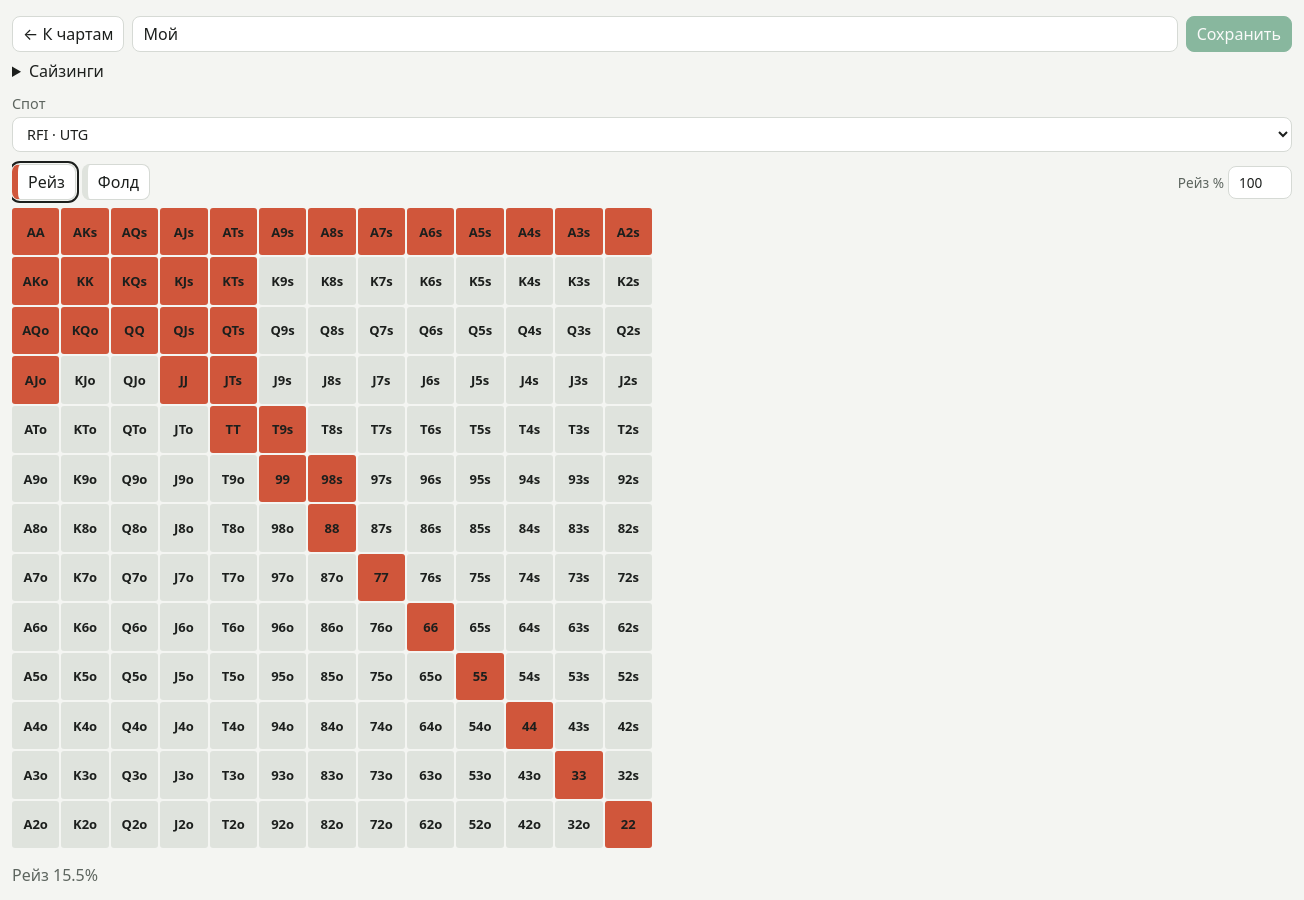
ChartEditor › renames the chart
Clear the field named "Название чарта" at point(655, 34), box [132,16,1178,52]
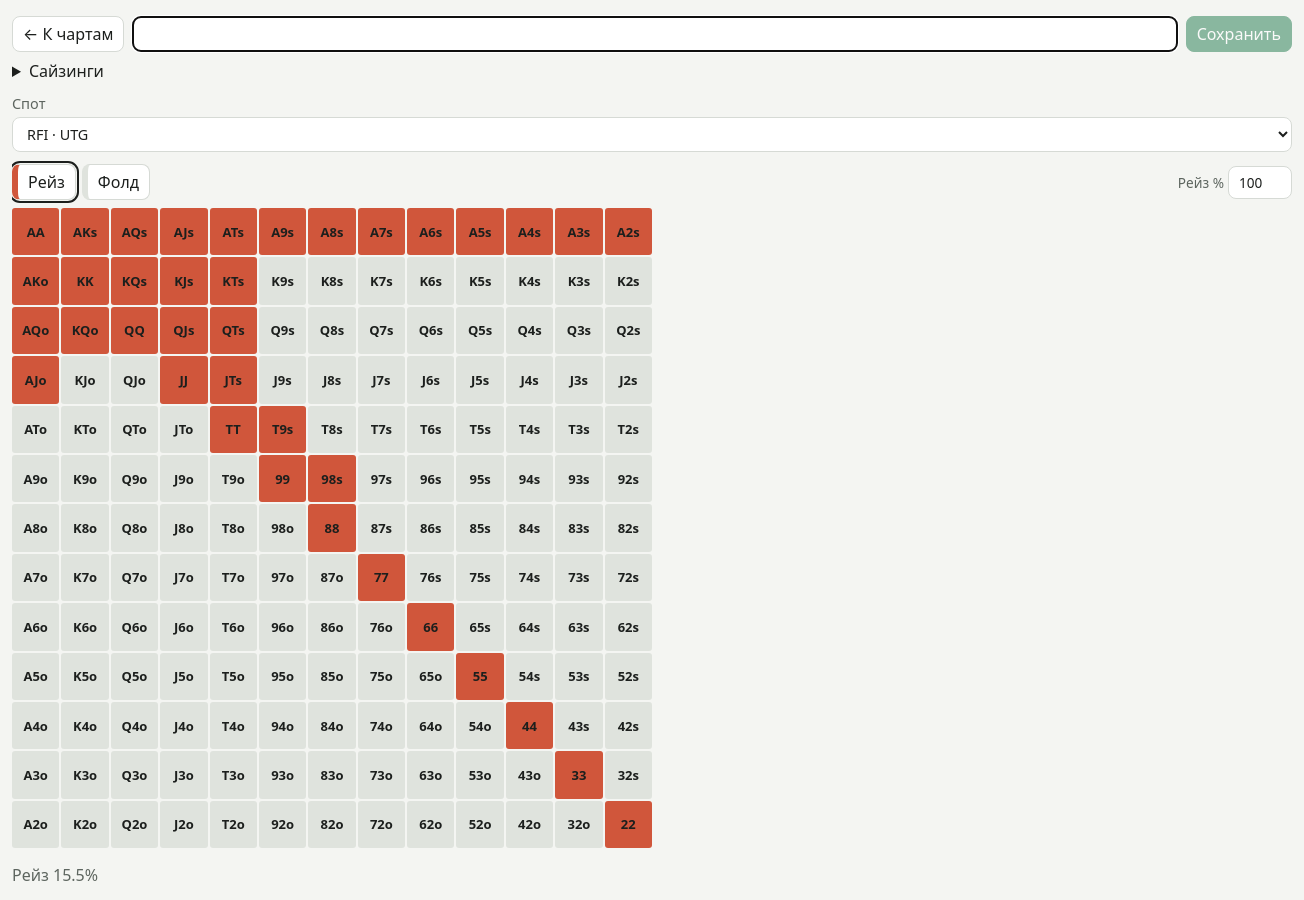
Expected: the button "Сохранить" is disabled, [1186,16,1292,52]
Type "Новое имя" into the field named "Название чарта" at point(655, 34), box [132,16,1178,52]
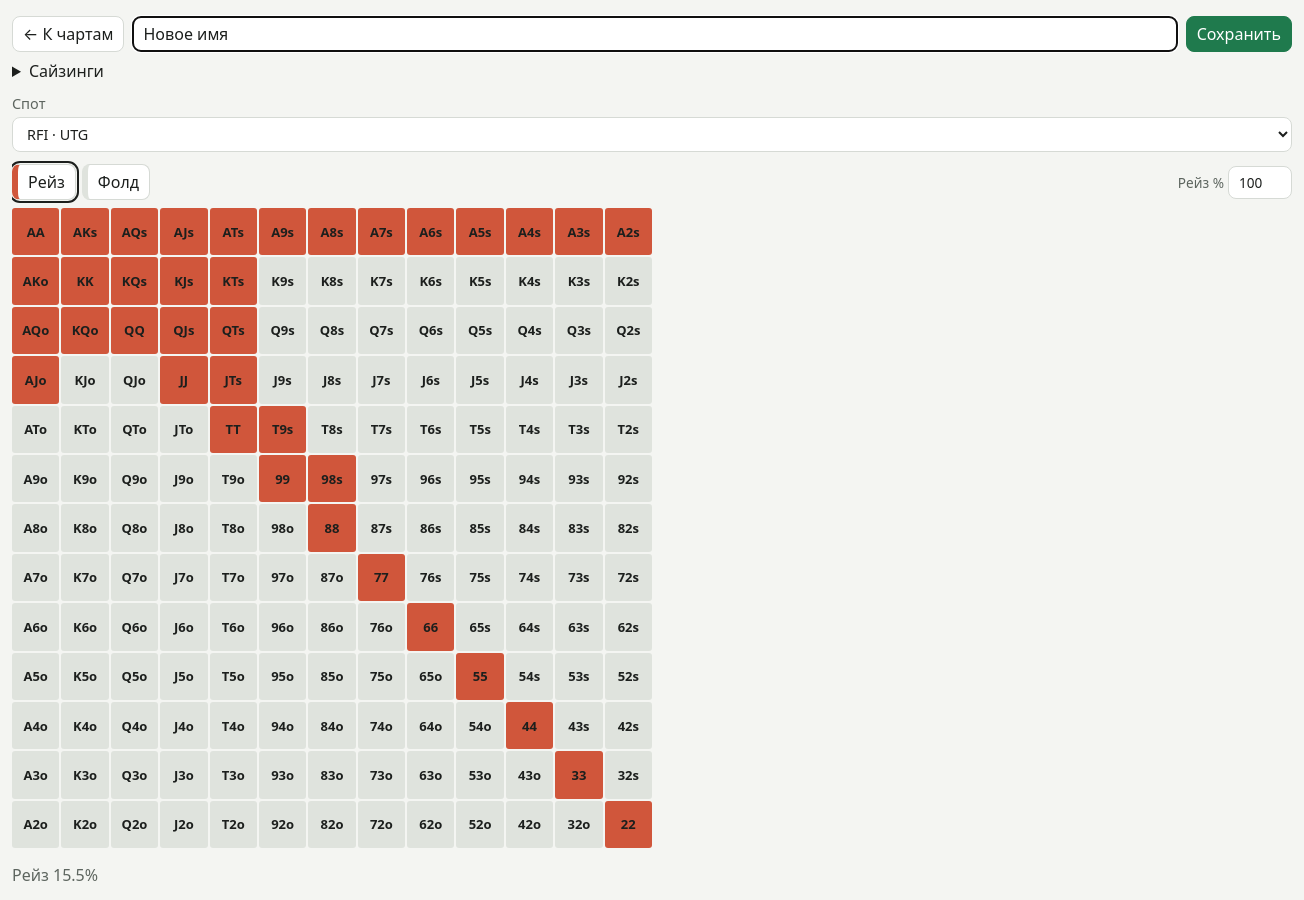
Click the button "Сохранить" at point(1239, 34), box [1186,16,1292,52]
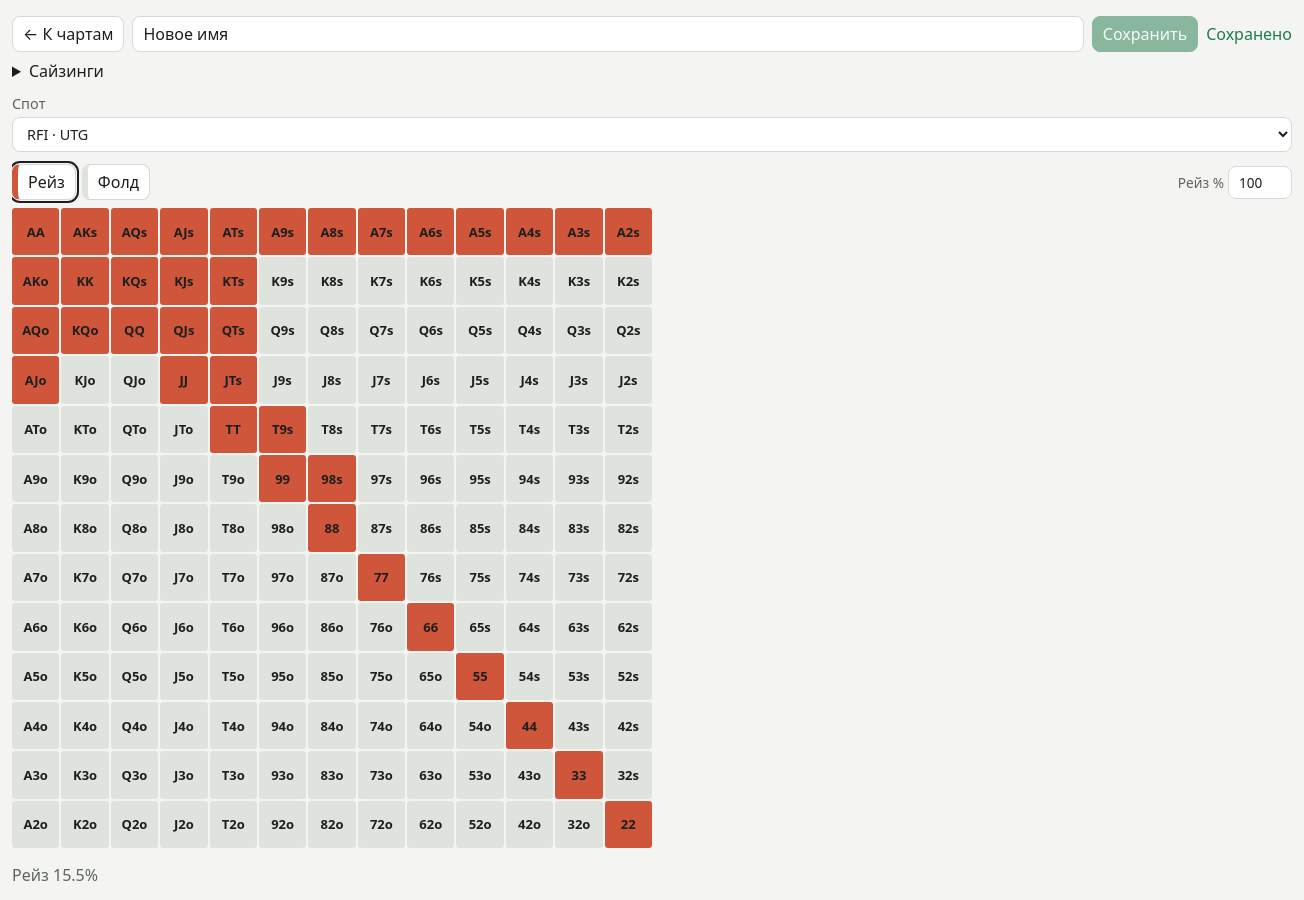
Result: the text "Сохранено" is shown at [1206,23,1292,45]
